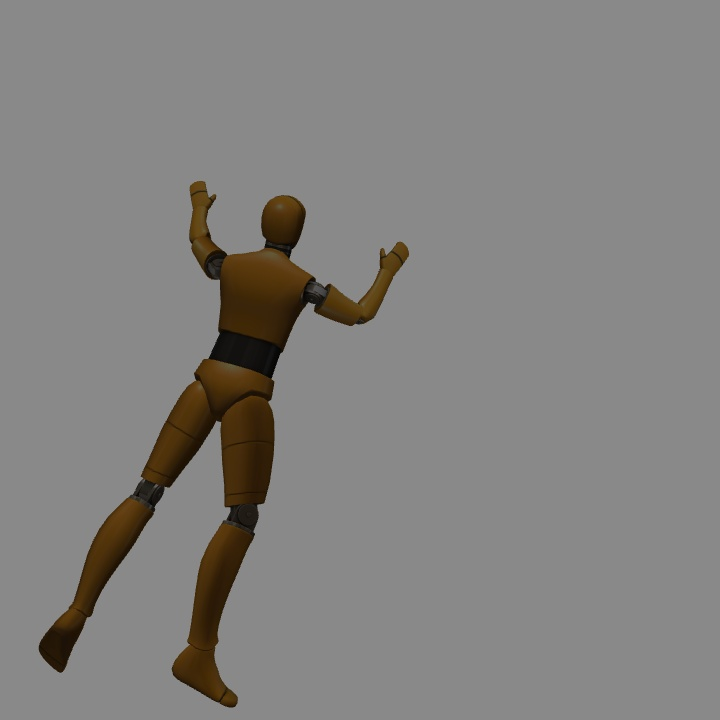victim: (189, 178, 318, 707)
